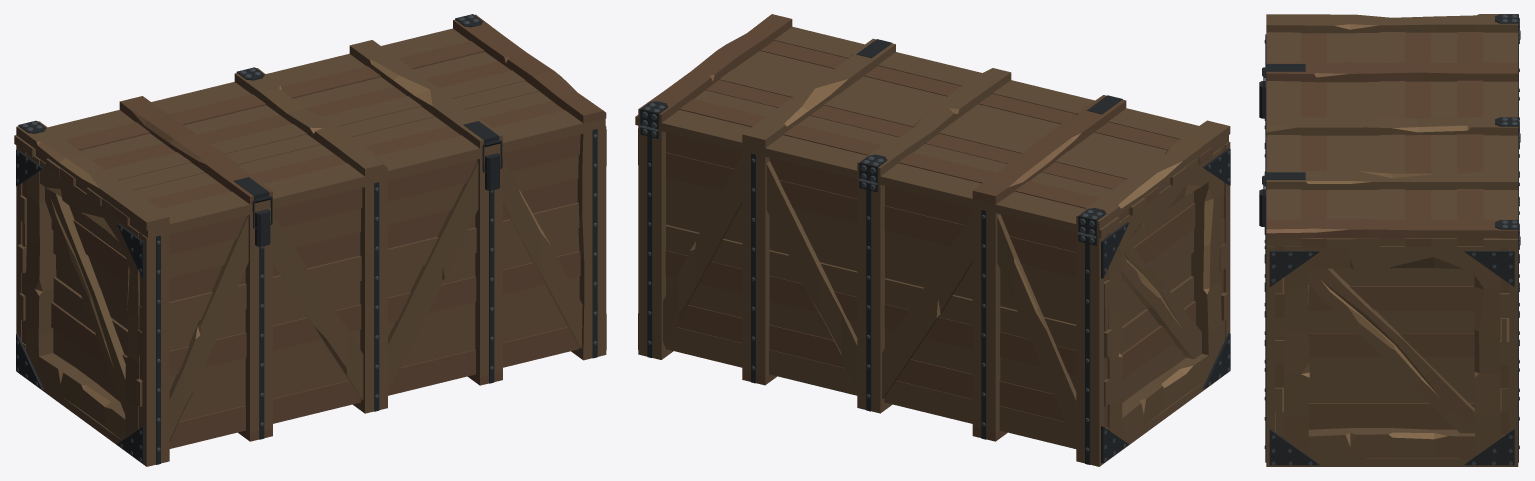
File: SM_Large_Wood_Box.gltf
The picture shows the model from 3 angles, left to right: view 1: azimuth 30°, elevation 25°; view 2: azimuth 150°, elevation 25°; view 3: azimuth 270°, elevation 25°; orthographic projection. The views are drawn at different scales.
Visible parts, largest first — view 1: SM_Large_Wood_Box, Box_Lid; view 2: SM_Large_Wood_Box, Box_Lid; view 3: Box_Lid, SM_Large_Wood_Box.
Boxes of the visible parts, x1,y1,x2,y2 form: SM_Large_Wood_Box: [16, 126, 606, 466]; Box_Lid: [14, 14, 606, 237]; SM_Large_Wood_Box: [638, 125, 1230, 466]; Box_Lid: [635, 14, 1230, 238]; Box_Lid: [1262, 14, 1519, 247]; SM_Large_Wood_Box: [1259, 30, 1520, 466].
Bounding box in the file's own units: 2 × 1.01 × 1.
